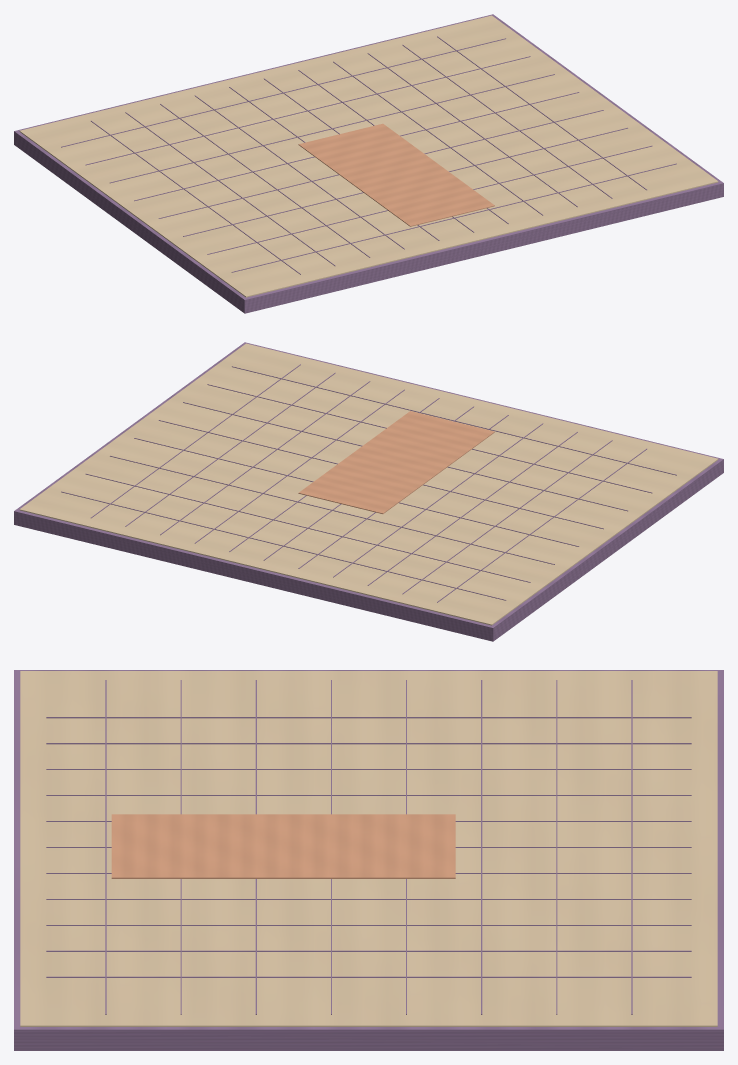
Rendered from atlas100-s082-a07.glb.
The picture shows the model from 3 angles, top to bottom: view 1: azimuth 30°, elevation 25°; view 2: azimuth 150°, elevation 25°; view 3: azimuth 270°, elevation 25°; orthographic projection. The views are drawn at different scales.
Parts seen in each view (by area): view 1: atlas100-s082-a07:part-001, atlas100-s082-a07:part-000, atlas100-s082-a07:part-021, atlas100-s082-a07:part-020, atlas100-s082-a07:part-014, atlas100-s082-a07:part-013, atlas100-s082-a07:part-015, atlas100-s082-a07:part-016, atlas100-s082-a07:part-018, atlas100-s082-a07:part-019, atlas100-s082-a07:part-017; view 2: atlas100-s082-a07:part-001, atlas100-s082-a07:part-000, atlas100-s082-a07:part-021, atlas100-s082-a07:part-013, atlas100-s082-a07:part-015, atlas100-s082-a07:part-014, atlas100-s082-a07:part-020, atlas100-s082-a07:part-017, atlas100-s082-a07:part-019, atlas100-s082-a07:part-016, atlas100-s082-a07:part-018; view 3: atlas100-s082-a07:part-001, atlas100-s082-a07:part-000, atlas100-s082-a07:part-021, atlas100-s082-a07:part-011, atlas100-s082-a07:part-012, atlas100-s082-a07:part-002, atlas100-s082-a07:part-003, atlas100-s082-a07:part-013, atlas100-s082-a07:part-014, atlas100-s082-a07:part-015, atlas100-s082-a07:part-020, atlas100-s082-a07:part-010 (+3 smaller).
Part boxes in pixels (x1,y1,x2,y2): atlas100-s082-a07:part-001: (19,15,718,297); atlas100-s082-a07:part-000: (14,14,723,313); atlas100-s082-a07:part-021: (298,123,494,226); atlas100-s082-a07:part-020: (231,163,676,272); atlas100-s082-a07:part-014: (85,56,530,165); atlas100-s082-a07:part-013: (61,38,505,147); atlas100-s082-a07:part-015: (110,74,554,183); atlas100-s082-a07:part-016: (134,92,579,201); atlas100-s082-a07:part-018: (183,127,627,236); atlas100-s082-a07:part-019: (207,145,652,254); atlas100-s082-a07:part-017: (158,110,603,218); atlas100-s082-a07:part-001: (19,343,718,625); atlas100-s082-a07:part-000: (14,342,723,641); atlas100-s082-a07:part-021: (298,411,494,513); atlas100-s082-a07:part-013: (61,491,506,600); atlas100-s082-a07:part-015: (110,455,554,564); atlas100-s082-a07:part-014: (85,473,530,582); atlas100-s082-a07:part-020: (232,366,676,475); atlas100-s082-a07:part-017: (158,420,603,529); atlas100-s082-a07:part-019: (207,384,652,493); atlas100-s082-a07:part-016: (134,438,579,546); atlas100-s082-a07:part-018: (183,402,627,511); atlas100-s082-a07:part-001: (20,671,717,1026); atlas100-s082-a07:part-000: (14,670,723,1050); atlas100-s082-a07:part-021: (111,814,455,878); atlas100-s082-a07:part-011: (46,950,691,951); atlas100-s082-a07:part-012: (46,976,691,977); atlas100-s082-a07:part-002: (46,717,691,718); atlas100-s082-a07:part-003: (46,743,691,744); atlas100-s082-a07:part-013: (631,680,632,1014); atlas100-s082-a07:part-014: (556,680,557,1014); atlas100-s082-a07:part-015: (481,680,482,1014); atlas100-s082-a07:part-020: (105,680,106,1014); atlas100-s082-a07:part-010: (46,925,691,925).
Bounding box in the file's own units: 12.46 × 0.404 × 10.4.
Materials: 3 (3 with a texture image).
